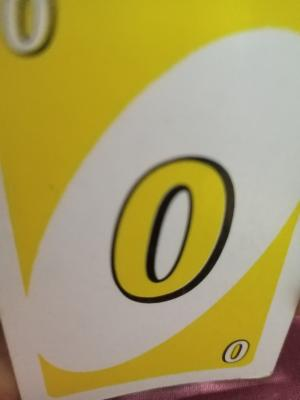yellow: (200, 325, 255, 369)
